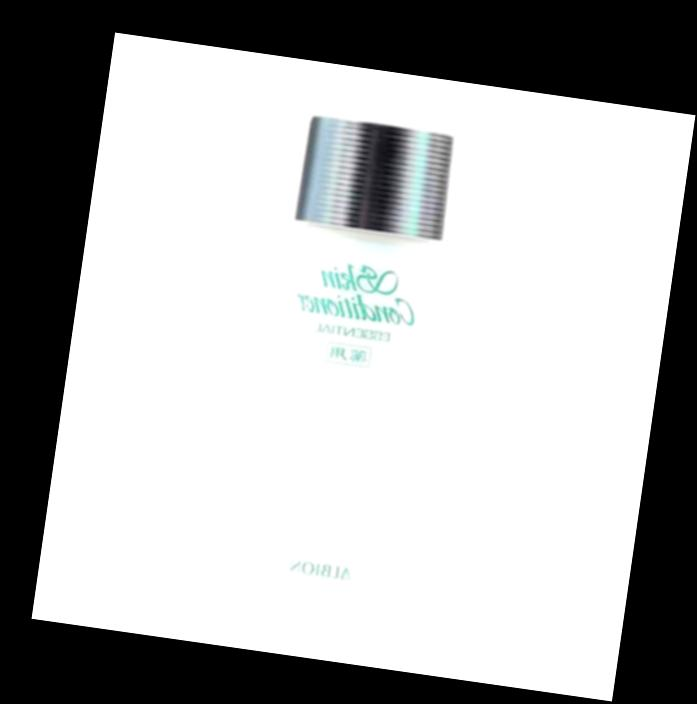cosmetic: (238, 111, 465, 627)
